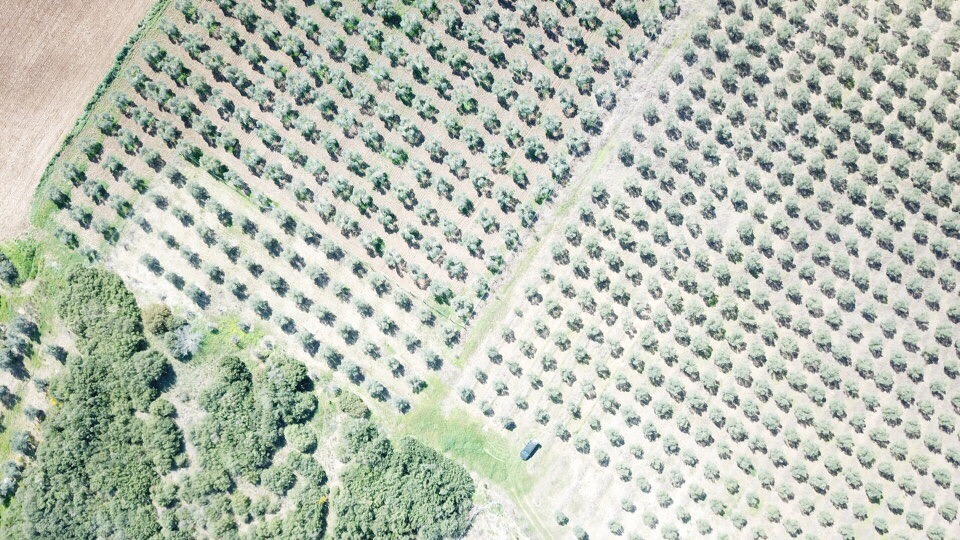oliveTree: (169, 96, 199, 125), (883, 66, 911, 97), (896, 44, 922, 77), (326, 69, 355, 98), (849, 122, 875, 154), (906, 160, 931, 193), (861, 100, 886, 133), (772, 17, 796, 51), (887, 147, 912, 179), (930, 170, 951, 208), (829, 109, 853, 142), (788, 83, 812, 116), (145, 81, 173, 109), (193, 116, 220, 145), (219, 64, 248, 91), (928, 38, 951, 72), (257, 121, 282, 152), (932, 122, 957, 153), (784, 2, 809, 33), (541, 6, 563, 41), (838, 139, 860, 174), (912, 109, 936, 141), (905, 78, 929, 110), (744, 24, 767, 57), (833, 58, 856, 91), (846, 37, 869, 70), (917, 55, 940, 88), (156, 121, 183, 149), (233, 2, 259, 31), (117, 128, 143, 157), (470, 61, 496, 90), (494, 80, 520, 109), (517, 97, 542, 127), (906, 27, 931, 57), (887, 16, 912, 46), (812, 45, 836, 76), (361, 20, 384, 52), (581, 230, 604, 262), (900, 126, 923, 158), (95, 112, 122, 139), (351, 191, 378, 218), (285, 71, 313, 97), (731, 45, 753, 78), (763, 38, 785, 71), (209, 89, 234, 118), (181, 24, 206, 53), (360, 123, 385, 152), (935, 71, 960, 100), (710, 28, 731, 62), (723, 12, 745, 44), (793, 31, 815, 63), (873, 81, 895, 113), (863, 54, 889, 81), (163, 57, 188, 85), (640, 11, 663, 41), (870, 134, 893, 164), (800, 61, 822, 92), (295, 118, 321, 144), (124, 66, 149, 93), (904, 1, 929, 28), (134, 107, 158, 135), (242, 150, 266, 178), (811, 95, 831, 128), (895, 99, 917, 129), (878, 31, 900, 61), (141, 42, 166, 68), (279, 34, 305, 59), (267, 164, 293, 189), (322, 35, 346, 62), (524, 137, 548, 164), (703, 314, 727, 341), (940, 22, 960, 54), (626, 35, 648, 64), (921, 142, 943, 171), (549, 152, 570, 182), (528, 34, 549, 64), (826, 27, 847, 57), (445, 258, 470, 283), (445, 49, 470, 74), (496, 189, 521, 214), (400, 223, 424, 249), (724, 325, 748, 351), (683, 299, 707, 325), (201, 156, 228, 179), (272, 97, 295, 124), (479, 108, 502, 135), (487, 147, 510, 174), (564, 27, 587, 54), (859, 21, 882, 48), (837, 9, 860, 36), (557, 90, 579, 118), (574, 69, 596, 97), (819, 362, 841, 390), (776, 244, 798, 272), (851, 71, 873, 99), (338, 109, 359, 138), (699, 138, 720, 167), (779, 106, 800, 135), (47, 187, 72, 211), (54, 226, 78, 251), (233, 106, 257, 131), (346, 153, 370, 178), (446, 153, 470, 178), (501, 124, 526, 148), (549, 53, 573, 78), (751, 57, 771, 87), (784, 52, 804, 82), (884, 116, 904, 146), (940, 153, 960, 183), (253, 192, 279, 215), (424, 241, 447, 267), (396, 185, 419, 211), (301, 52, 327, 75), (532, 74, 555, 100), (634, 153, 657, 179), (173, 1, 200, 23), (222, 27, 244, 54), (293, 182, 315, 209), (577, 3, 599, 30), (770, 213, 792, 240), (930, 91, 949, 122), (747, 339, 768, 367), (664, 286, 685, 314), (750, 285, 771, 313), (812, 325, 833, 353), (796, 258, 817, 286), (669, 146, 690, 174), (733, 133, 754, 161), (690, 22, 711, 50), (808, 16, 829, 44), (443, 5, 463, 34), (875, 224, 895, 253), (798, 118, 818, 147), (338, 216, 363, 239), (250, 84, 273, 109), (241, 43, 264, 68), (354, 90, 377, 115), (368, 66, 391, 91), (509, 59, 532, 84), (766, 356, 789, 381), (160, 17, 182, 43), (84, 179, 106, 205), (315, 94, 337, 120), (376, 102, 398, 128), (566, 135, 592, 157), (663, 201, 685, 227), (895, 381, 916, 408), (748, 197, 769, 224), (848, 176, 869, 203), (727, 100, 748, 127), (824, 76, 842, 107), (62, 163, 86, 186), (111, 92, 134, 116), (185, 283, 209, 306), (331, 177, 354, 201), (377, 209, 400, 233), (483, 251, 506, 275), (368, 171, 391, 195), (263, 61, 287, 84), (430, 76, 454, 99), (424, 139, 448, 162), (837, 283, 856, 312), (757, 7, 776, 36), (143, 148, 165, 173), (615, 1, 640, 23), (697, 282, 719, 307), (801, 349, 823, 374), (544, 115, 565, 141), (743, 252, 764, 278), (502, 225, 522, 252), (938, 408, 958, 435), (887, 204, 907, 231), (748, 114, 768, 141), (707, 87, 727, 114), (874, 3, 892, 33), (715, 120, 734, 148), (179, 143, 202, 166), (361, 234, 384, 257), (187, 75, 210, 98), (580, 112, 603, 135), (752, 149, 775, 172), (141, 253, 163, 277), (268, 273, 290, 297), (659, 344, 681, 368), (604, 249, 626, 273), (831, 343, 853, 367), (387, 44, 408, 69), (110, 194, 131, 219), (501, 27, 526, 48), (680, 357, 701, 382), (563, 223, 584, 248), (779, 335, 800, 360), (794, 174, 815, 199), (900, 189, 921, 214), (820, 1, 841, 26), (202, 14, 222, 40), (651, 221, 671, 247), (659, 255, 679, 281), (678, 268, 698, 294), (851, 268, 871, 294), (789, 227, 809, 253), (763, 179, 783, 205), (719, 69, 739, 95), (858, 159, 878, 185), (412, 56, 431, 83), (603, 21, 622, 48), (645, 273, 664, 300), (639, 240, 658, 267), (671, 235, 690, 262), (712, 260, 731, 287), (658, 168, 677, 195), (818, 131, 837, 158), (69, 206, 92, 228), (368, 380, 391, 402), (300, 225, 322, 248), (441, 221, 463, 244), (347, 50, 369, 73), (401, 126, 424, 148), (387, 146, 409, 169), (472, 176, 494, 199), (910, 453, 932, 476), (803, 296, 825, 319), (323, 347, 344, 371), (308, 161, 329, 185), (416, 205, 440, 226), (465, 24, 486, 48), (393, 81, 414, 105), (532, 182, 556, 203), (624, 264, 645, 288), (935, 318, 953, 346), (741, 79, 759, 107), (942, 211, 960, 239), (190, 183, 210, 208), (316, 199, 336, 224), (519, 204, 539, 229), (578, 290, 598, 315), (597, 216, 617, 241), (719, 295, 739, 320), (759, 321, 779, 346), (793, 314, 813, 339), (676, 180, 696, 205), (730, 189, 750, 214), (689, 163, 709, 188), (693, 109, 713, 134), (854, 213, 874, 238), (688, 76, 708, 101), (591, 183, 610, 209), (675, 96, 694, 122), (843, 90, 862, 116), (710, 175, 728, 202), (770, 72, 788, 99), (370, 277, 392, 299), (726, 420, 748, 442), (761, 413, 783, 435), (556, 277, 578, 299), (376, 315, 399, 336), (453, 296, 474, 319), (286, 144, 307, 167), (200, 51, 223, 72), (464, 131, 485, 154), (479, 210, 500, 233), (666, 378, 687, 401), (773, 391, 794, 414), (869, 427, 892, 448), (742, 399, 762, 423), (753, 379, 773, 403), (939, 500, 959, 524), (855, 356, 875, 380), (764, 267, 784, 291), (736, 219, 756, 243), (858, 300, 878, 324), (901, 329, 921, 353), (260, 20, 279, 45), (92, 216, 111, 241), (631, 206, 650, 231), (732, 275, 751, 300), (698, 194, 717, 219), (897, 240, 916, 265), (912, 221, 931, 246), (472, 275, 490, 301), (618, 141, 636, 167), (664, 116, 682, 142), (299, 334, 321, 355), (167, 166, 188, 188), (416, 101, 438, 122), (746, 432, 768, 453), (640, 333, 661, 355), (610, 285, 631, 307), (691, 339, 713, 360), (916, 256, 937, 278), (877, 179, 899, 200), (420, 1, 443, 21), (285, 247, 305, 270), (262, 233, 282, 256), (277, 210, 297, 233), (486, 40, 506, 63), (444, 116, 464, 139), (455, 95, 478, 115), (597, 87, 617, 110), (898, 474, 918, 497), (841, 376, 861, 399), (705, 229, 725, 252), (755, 234, 775, 257), (834, 203, 854, 226), (768, 128, 788, 151), (425, 33, 442, 60), (279, 2, 298, 26), (325, 139, 344, 163), (875, 369, 894, 393), (832, 257, 851, 281), (745, 170, 764, 194), (593, 268, 611, 293), (299, 18, 320, 39), (347, 259, 368, 280), (410, 267, 431, 288), (807, 385, 828, 406), (787, 371, 808, 392), (811, 247, 832, 268), (83, 141, 103, 163), (221, 241, 241, 263), (229, 279, 249, 301), (253, 299, 273, 321), (802, 439, 822, 461), (932, 467, 952, 489), (739, 310, 759, 332), (884, 405, 904, 427), (930, 239, 950, 261), (316, 304, 335, 327), (323, 242, 346, 261), (387, 252, 406, 275), (221, 132, 240, 155), (511, 166, 530, 189), (590, 49, 609, 72), (657, 1, 680, 20), (916, 398, 935, 421), (890, 351, 909, 374), (649, 135, 668, 158), (938, 269, 957, 292), (945, 103, 960, 132), (414, 164, 432, 188), (612, 199, 630, 223), (705, 5, 723, 29), (165, 272, 186, 292), (310, 267, 330, 288), (239, 216, 259, 237), (688, 395, 708, 416), (722, 389, 742, 410), (551, 245, 571, 266), (653, 313, 673, 334), (734, 367, 754, 388), (835, 435, 855, 456), (924, 433, 944, 454), (920, 344, 940, 365), (830, 172, 850, 193), (402, 19, 424, 38), (340, 323, 359, 345), (481, 10, 500, 32), (652, 400, 674, 419), (599, 304, 618, 326), (714, 352, 733, 374), (857, 447, 876, 469), (829, 399, 848, 421), (773, 308, 792, 330), (623, 176, 642, 198), (868, 192, 887, 214), (807, 153, 826, 175), (294, 289, 312, 312), (431, 283, 454, 301), (467, 236, 485, 259), (572, 257, 590, 280), (693, 250, 711, 273), (826, 307, 844, 330), (644, 189, 662, 212), (776, 163, 794, 186), (348, 362, 365, 386), (880, 315, 897, 339), (684, 126, 701, 150), (668, 62, 685, 86), (393, 293, 413, 313), (442, 329, 462, 349), (601, 395, 621, 415), (843, 469, 863, 489), (815, 422, 835, 442), (890, 441, 910, 461), (863, 392, 883, 412), (902, 419, 922, 439), (906, 279, 926, 299), (724, 152, 740, 177), (195, 225, 216, 244), (436, 179, 455, 200), (646, 366, 665, 387), (808, 476, 829, 495), (865, 483, 884, 504), (674, 326, 693, 347), (795, 406, 814, 427), (725, 242, 744, 263), (787, 141, 806, 162), (933, 1, 954, 20), (342, 14, 360, 36), (106, 157, 124, 179), (278, 314, 296, 336), (613, 64, 631, 86), (619, 230, 637, 252), (868, 336, 885, 359), (819, 276, 836, 299), (682, 44, 699, 67), (914, 308, 930, 332), (377, 1, 397, 20), (173, 207, 192, 227), (688, 483, 707, 503), (586, 325, 605, 345), (824, 457, 844, 476), (783, 429, 803, 448), (702, 375, 721, 395), (643, 106, 662, 126), (207, 265, 225, 286), (424, 350, 442, 371), (457, 197, 475, 218), (520, 6, 538, 27), (829, 492, 850, 510), (578, 206, 596, 227), (405, 332, 422, 354), (604, 430, 626, 447), (817, 190, 834, 212), (185, 246, 201, 269), (217, 204, 233, 227), (621, 316, 637, 339), (518, 340, 537, 359), (906, 511, 925, 530), (632, 301, 651, 320), (849, 414, 868, 433), (125, 172, 143, 192), (245, 258, 263, 278), (407, 376, 427, 394), (546, 299, 564, 319), (930, 381, 948, 401), (685, 220, 703, 240), (804, 211, 822, 231), (738, 1, 756, 21), (321, 1, 342, 18), (758, 470, 775, 491), (878, 461, 895, 482), (943, 358, 960, 379), (924, 290, 941, 311), (886, 263, 903, 284), (630, 353, 646, 375), (700, 58, 716, 80), (232, 176, 251, 194), (623, 410, 642, 428), (663, 437, 681, 456), (524, 287, 543, 305), (770, 449, 788, 468), (871, 517, 890, 535), (892, 299, 910, 318), (866, 252, 884, 271), (778, 483, 795, 503), (566, 313, 583, 333), (922, 205, 939, 225), (946, 443, 960, 467), (764, 98, 778, 122), (785, 196, 800, 218), (356, 301, 374, 319), (643, 424, 661, 442), (704, 464, 722, 482), (737, 456, 755, 474), (418, 311, 437, 328), (710, 498, 727, 517), (695, 429, 714, 446), (554, 333, 571, 352), (534, 320, 551, 339), (790, 466, 809, 483), (887, 496, 904, 515), (539, 265, 556, 284), (847, 323, 864, 342), (853, 1, 870, 20), (134, 214, 150, 234), (163, 230, 179, 250), (336, 283, 352, 303), (873, 285, 889, 305), (631, 123, 646, 144), (458, 387, 476, 404), (643, 512, 660, 530), (560, 369, 577, 387), (716, 443, 734, 460), (635, 388, 652, 406), (364, 342, 380, 361), (616, 464, 632, 483), (567, 402, 583, 421), (575, 346, 591, 365), (907, 367, 926, 383), (390, 358, 405, 378), (535, 407, 550, 427), (710, 408, 725, 428), (846, 237, 860, 258), (920, 491, 937, 508), (787, 287, 804, 304), (507, 362, 525, 378), (541, 353, 557, 371), (616, 375, 632, 393), (609, 341, 625, 359), (853, 503, 869, 521), (458, 1, 480, 14), (556, 1, 575, 16), (557, 425, 572, 444), (575, 436, 590, 455), (661, 525, 680, 540), (488, 346, 503, 365), (927, 525, 946, 540), (826, 225, 841, 244), (951, 182, 960, 213), (217, 1, 234, 17), (697, 518, 713, 535), (670, 470, 686, 487), (547, 388, 564, 404), (682, 452, 699, 468), (786, 521, 803, 537), (800, 499, 816, 516), (676, 416, 692, 433), (595, 363, 611, 380), (677, 506, 692, 524), (769, 1, 787, 16), (82, 246, 96, 265), (946, 305, 960, 324), (151, 194, 167, 210), (395, 399, 411, 415), (621, 497, 637, 513), (528, 374, 544, 390), (581, 384, 597, 400), (767, 507, 783, 523), (480, 400, 495, 417), (637, 477, 652, 494), (656, 493, 673, 508), (650, 457, 665, 474), (818, 512, 835, 527), (838, 525, 855, 540), (733, 512, 747, 530), (658, 85, 671, 104), (494, 381, 509, 397), (555, 511, 570, 527), (630, 443, 645, 459), (474, 367, 488, 384), (597, 451, 611, 468), (608, 522, 625, 536), (950, 249, 960, 272), (588, 416, 602, 432), (726, 479, 740, 495), (502, 327, 515, 344), (502, 417, 517, 431), (746, 495, 761, 509), (575, 527, 588, 540), (951, 397, 960, 415), (516, 398, 529, 410), (261, 1, 276, 11), (753, 530, 768, 540), (359, 1, 375, 10), (953, 482, 960, 501), (512, 306, 524, 317), (955, 337, 960, 356)
